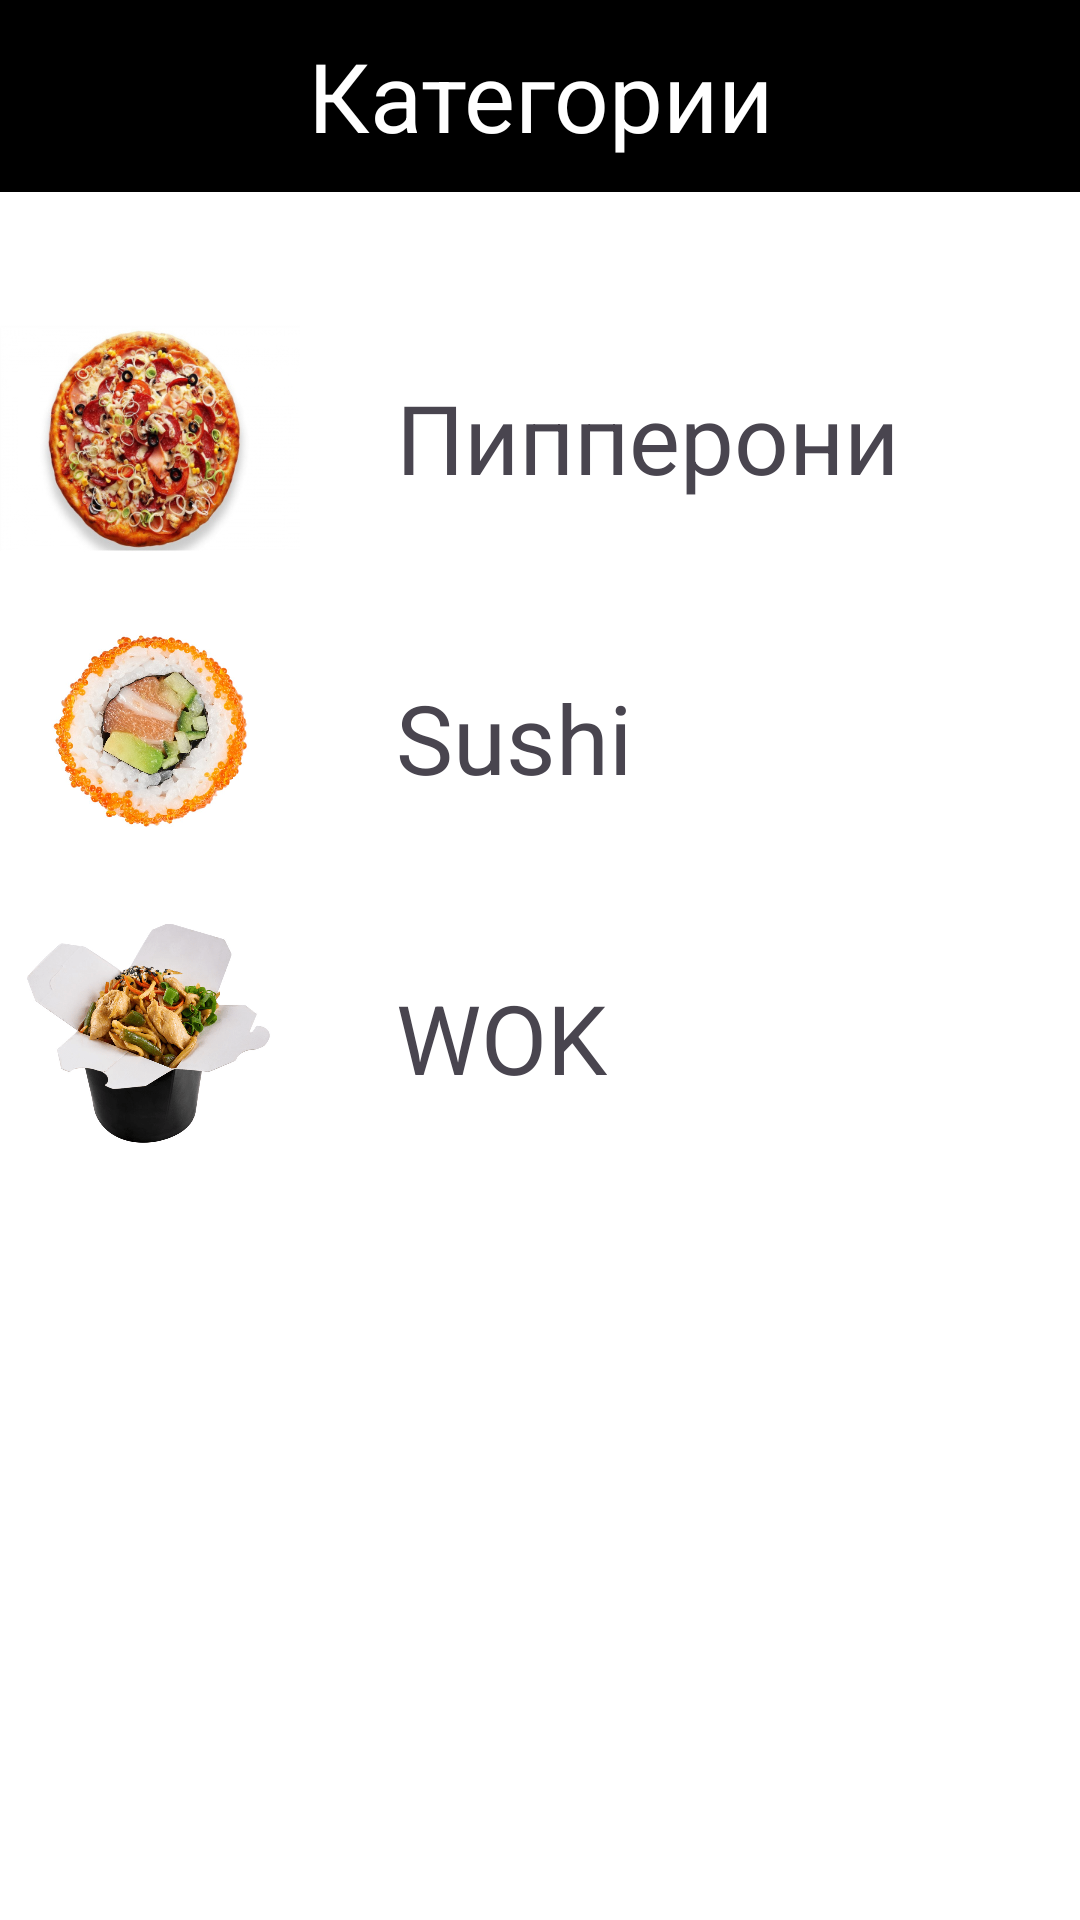

Point at icon controls on the screen. Image size 1080 × 1920, points as point (x, y).
pizza: point (144, 441)
